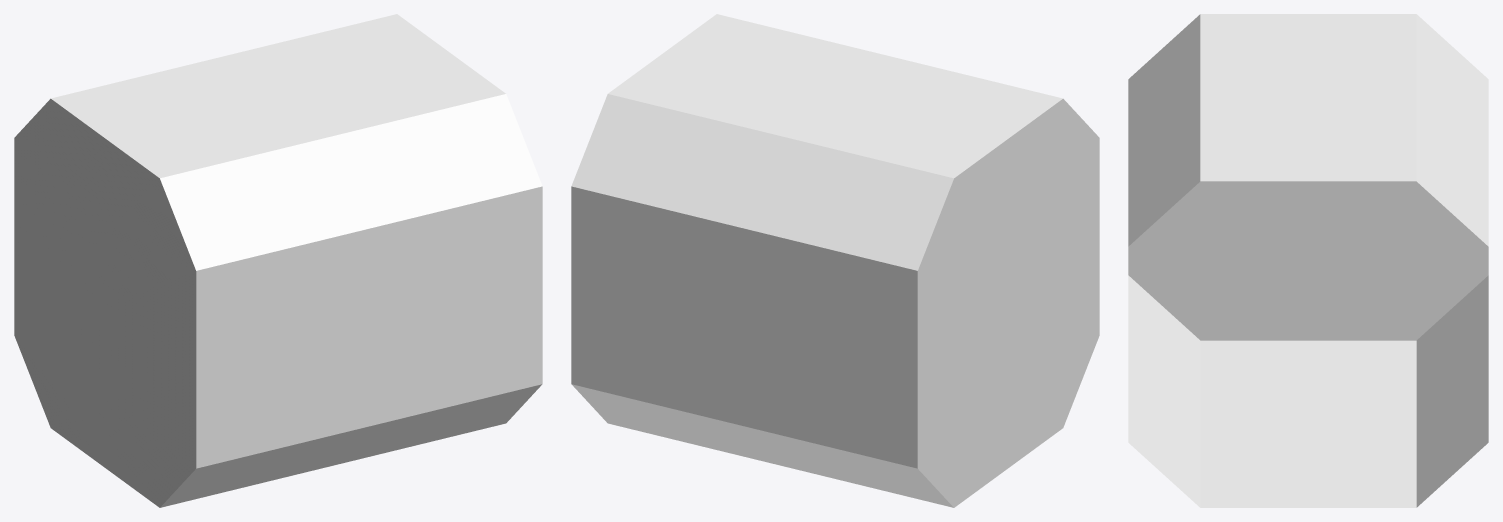
Rendered from negx.obj.
3 views of the same model, side by side, from view 1: azimuth 30°, elevation 25°; view 2: azimuth 150°, elevation 25°; view 3: azimuth 270°, elevation 25° (orthographic).
Parts seen in each view (by area): view 1: negX; view 2: negX; view 3: negX.
Part boxes in pixels (x1,y1,x2,y2): negX: (14, 14, 542, 507); negX: (571, 14, 1099, 507); negX: (1128, 14, 1488, 507).
Bounding box in the file's own units: 0.3438 × 0.3125 × 0.3125.
